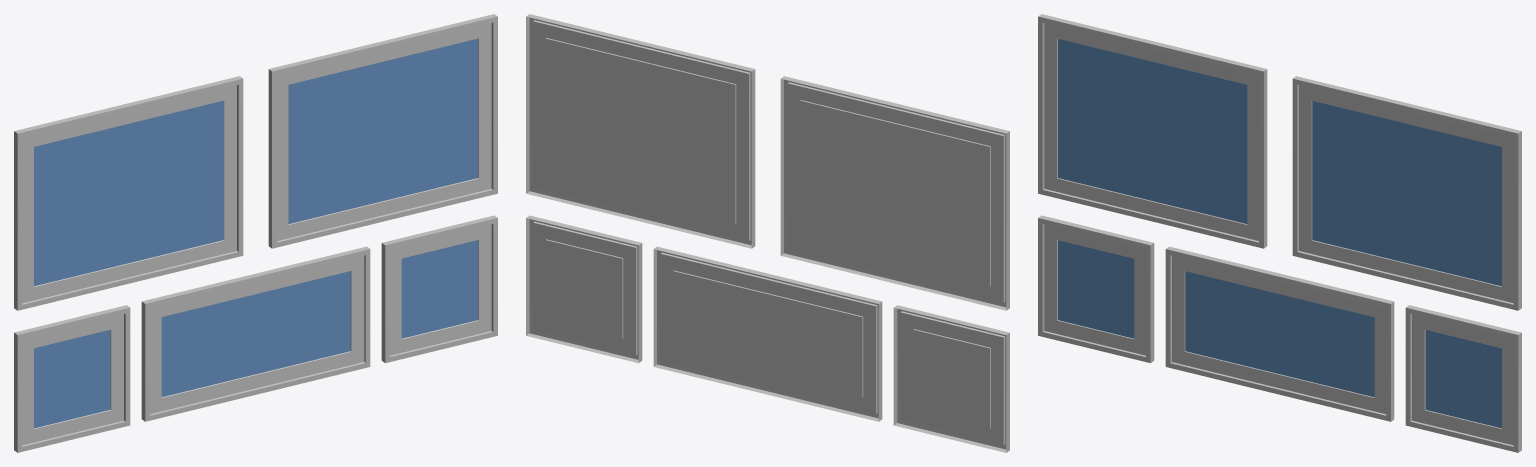
Rendered from Picture Frames Set.fbx.
3 views of the same model, side by side, from view 1: azimuth 30°, elevation 25°; view 2: azimuth 150°, elevation 25°; view 3: azimuth 330°, elevation 25° (orthographic).
Visible parts, largest first — view 1: Glass, Frames; view 2: Images, Frames; view 3: Glass, Frames.
Part boxes in pixels (box(x1,y1,x2,y2)): Glass: box(34, 38, 477, 428); Frames: box(14, 14, 497, 452); Images: box(545, 38, 989, 428); Frames: box(526, 14, 1009, 452); Glass: box(1058, 38, 1501, 428); Frames: box(1038, 14, 1521, 452).
Size of the model in its own units: 167 by 106 by 2.14.
